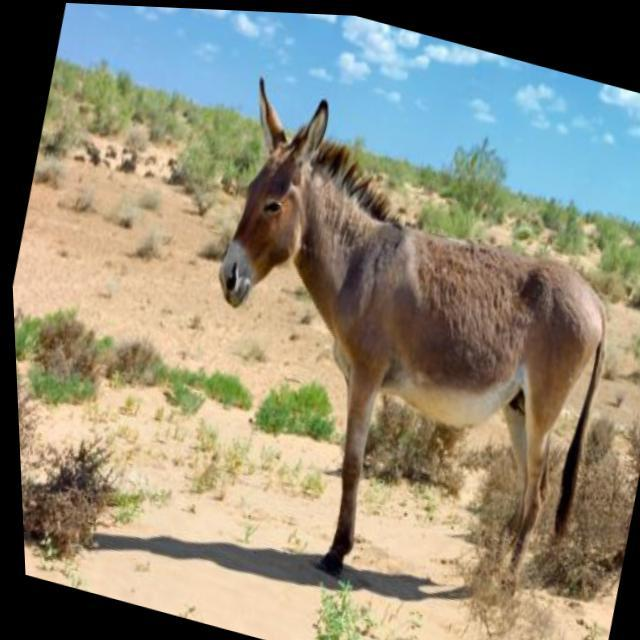Donkey: (146, 64, 640, 633)
